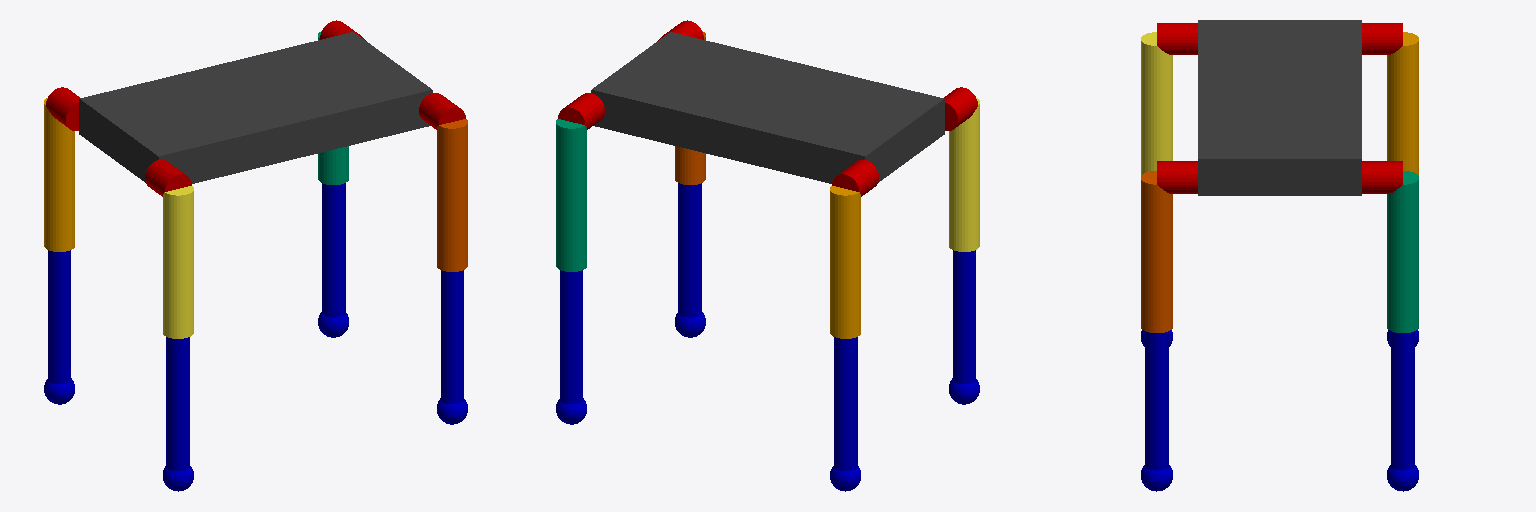
The robot description file, URDF, robot "quadruped":
<?xml version="1.0"?>
<robot name="quadruped">
  <link name="base_link">
    <visual><geometry><box size="0.4 0.2 0.05"/></geometry><material name="gray"><color rgba="0.3 0.3 0.3 1"/></material></visual>
    <collision><geometry><box size="0.4 0.2 0.05"/></geometry></collision>
    <inertial><mass value="2.0"/><inertia ixx="0.01" ixy="0" ixz="0" iyy="0.01" iyz="0" izz="0.01"/></inertial>
  </link>

  <link name="FL_coxa">
    <visual><geometry><cylinder length="0.05" radius="0.02"/></geometry><origin rpy="1.5708 0 0" xyz="0 0.025 0"/><material name="red"><color rgba="0.8 0 0 1"/></material></visual>
    <collision><geometry><cylinder length="0.05" radius="0.02"/></geometry><origin rpy="1.5708 0 0" xyz="0 0.025 0"/></collision>
    <inertial><mass value="0.2"/><inertia ixx="0.0001" ixy="0" ixz="0" iyy="0.0001" iyz="0" izz="0.0001"/></inertial>
  </link>
  <link name="FL_femur">
    <visual><geometry><cylinder length="0.2" radius="0.02"/></geometry><origin rpy="0 0 0" xyz="0 0 -0.1"/></visual>
    <collision><geometry><cylinder length="0.2" radius="0.02"/></geometry><origin rpy="0 0 0" xyz="0 0 -0.1"/></collision>
    <inertial><mass value="0.2"/><inertia ixx="0.0001" ixy="0" ixz="0" iyy="0.0001" iyz="0" izz="0.0001"/></inertial>
  </link>
  <link name="FL_tibia">
    <visual><geometry><sphere radius="0.02"/></geometry><origin rpy="0 0 0" xyz="0 0 -0.2"/><material name="blue"><color rgba="0 0 0.8 1"/></material></visual>
    <visual><geometry><cylinder length="0.2" radius="0.015"/></geometry><origin rpy="0 0 0" xyz="0 0 -0.1"/><material name="blue"><color rgba="0 0 0.8 1"/></material></visual>
    <collision><geometry><sphere radius="0.02"/></geometry><origin rpy="0 0 0" xyz="0 0 -0.2"/></collision>
    <collision><geometry><cylinder length="0.2" radius="0.015"/></geometry><origin rpy="0 0 0" xyz="0 0 -0.1"/></collision>
    <inertial><mass value="0.2"/><inertia ixx="0.0001" ixy="0" ixz="0" iyy="0.0001" iyz="0" izz="0.0001"/></inertial>
  </link>
  <joint name="FL_shoulder_roll" type="revolute"><parent link="base_link"/><child link="FL_coxa"/><origin xyz="0.2 0.1 0" rpy="0 0 0"/><axis xyz="1 0 0"/><limit effort="30" velocity="10" lower="-1.5" upper="1.5"/></joint>
  <joint name="FL_shoulder_pitch" type="revolute"><parent link="FL_coxa"/><child link="FL_femur"/><origin xyz="0 0.05 0" rpy="0 0 0"/><axis xyz="0 1 0"/><limit effort="30" velocity="10" lower="-1.5" upper="1.5"/></joint>
  <joint name="FL_knee_pitch" type="revolute"><parent link="FL_femur"/><child link="FL_tibia"/><origin xyz="0 0 -0.2" rpy="0 0 0"/><axis xyz="0 1 0"/><limit effort="30" velocity="10" lower="-3.0" upper="3.0"/></joint>

  <link name="FR_coxa">
    <visual><geometry><cylinder length="0.05" radius="0.02"/></geometry><origin rpy="1.5708 0 0" xyz="0 -0.025 0"/><material name="red"><color rgba="0.8 0 0 1"/></material></visual>
    <collision><geometry><cylinder length="0.05" radius="0.02"/></geometry><origin rpy="1.5708 0 0" xyz="0 -0.025 0"/></collision>
    <inertial><mass value="0.2"/><inertia ixx="0.0001" ixy="0" ixz="0" iyy="0.0001" iyz="0" izz="0.0001"/></inertial>
  </link>
  <link name="FR_femur">
    <visual><geometry><cylinder length="0.2" radius="0.02"/></geometry><origin rpy="0 0 0" xyz="0 0 -0.1"/></visual>
    <collision><geometry><cylinder length="0.2" radius="0.02"/></geometry><origin rpy="0 0 0" xyz="0 0 -0.1"/></collision>
    <inertial><mass value="0.2"/><inertia ixx="0.0001" ixy="0" ixz="0" iyy="0.0001" iyz="0" izz="0.0001"/></inertial>
  </link>
  <link name="FR_tibia">
    <visual><geometry><sphere radius="0.02"/></geometry><origin rpy="0 0 0" xyz="0 0 -0.2"/><material name="blue"><color rgba="0 0 0.8 1"/></material></visual>
    <visual><geometry><cylinder length="0.2" radius="0.015"/></geometry><origin rpy="0 0 0" xyz="0 0 -0.1"/><material name="blue"><color rgba="0 0 0.8 1"/></material></visual>
    <collision><geometry><sphere radius="0.02"/></geometry><origin rpy="0 0 0" xyz="0 0 -0.2"/></collision>
    <collision><geometry><cylinder length="0.2" radius="0.015"/></geometry><origin rpy="0 0 0" xyz="0 0 -0.1"/></collision>
    <inertial><mass value="0.2"/><inertia ixx="0.0001" ixy="0" ixz="0" iyy="0.0001" iyz="0" izz="0.0001"/></inertial>
  </link>
  <joint name="FR_shoulder_roll" type="revolute"><parent link="base_link"/><child link="FR_coxa"/><origin xyz="0.2 -0.1 0" rpy="0 0 0"/><axis xyz="1 0 0"/><limit effort="30" velocity="10" lower="-1.5" upper="1.5"/></joint>
  <joint name="FR_shoulder_pitch" type="revolute"><parent link="FR_coxa"/><child link="FR_femur"/><origin xyz="0 -0.05 0" rpy="0 0 0"/><axis xyz="0 1 0"/><limit effort="30" velocity="10" lower="-1.5" upper="1.5"/></joint>
  <joint name="FR_knee_pitch" type="revolute"><parent link="FR_femur"/><child link="FR_tibia"/><origin xyz="0 0 -0.2" rpy="0 0 0"/><axis xyz="0 1 0"/><limit effort="30" velocity="10" lower="-3.0" upper="3.0"/></joint>

  <link name="BL_coxa">
    <visual><geometry><cylinder length="0.05" radius="0.02"/></geometry><origin rpy="1.5708 0 0" xyz="0 0.025 0"/><material name="red"><color rgba="0.8 0 0 1"/></material></visual>
    <collision><geometry><cylinder length="0.05" radius="0.02"/></geometry><origin rpy="1.5708 0 0" xyz="0 0.025 0"/></collision>
    <inertial><mass value="0.2"/><inertia ixx="0.0001" ixy="0" ixz="0" iyy="0.0001" iyz="0" izz="0.0001"/></inertial>
  </link>
  <link name="BL_femur">
    <visual><geometry><cylinder length="0.2" radius="0.02"/></geometry><origin rpy="0 0 0" xyz="0 0 -0.1"/></visual>
    <collision><geometry><cylinder length="0.2" radius="0.02"/></geometry><origin rpy="0 0 0" xyz="0 0 -0.1"/></collision>
    <inertial><mass value="0.2"/><inertia ixx="0.0001" ixy="0" ixz="0" iyy="0.0001" iyz="0" izz="0.0001"/></inertial>
  </link>
  <link name="BL_tibia">
    <visual><geometry><sphere radius="0.02"/></geometry><origin rpy="0 0 0" xyz="0 0 -0.2"/><material name="blue"><color rgba="0 0 0.8 1"/></material></visual>
    <visual><geometry><cylinder length="0.2" radius="0.015"/></geometry><origin rpy="0 0 0" xyz="0 0 -0.1"/><material name="blue"><color rgba="0 0 0.8 1"/></material></visual>
    <collision><geometry><sphere radius="0.02"/></geometry><origin rpy="0 0 0" xyz="0 0 -0.2"/></collision>
    <collision><geometry><cylinder length="0.2" radius="0.015"/></geometry><origin rpy="0 0 0" xyz="0 0 -0.1"/></collision>
    <inertial><mass value="0.2"/><inertia ixx="0.0001" ixy="0" ixz="0" iyy="0.0001" iyz="0" izz="0.0001"/></inertial>
  </link>
  <joint name="BL_shoulder_roll" type="revolute"><parent link="base_link"/><child link="BL_coxa"/><origin xyz="-0.2 0.1 0" rpy="0 0 0"/><axis xyz="1 0 0"/><limit effort="30" velocity="10" lower="-1.5" upper="1.5"/></joint>
  <joint name="BL_shoulder_pitch" type="revolute"><parent link="BL_coxa"/><child link="BL_femur"/><origin xyz="0 0.05 0" rpy="0 0 0"/><axis xyz="0 1 0"/><limit effort="30" velocity="10" lower="-1.5" upper="1.5"/></joint>
  <joint name="BL_knee_pitch" type="revolute"><parent link="BL_femur"/><child link="BL_tibia"/><origin xyz="0 0 -0.2" rpy="0 0 0"/><axis xyz="0 1 0"/><limit effort="30" velocity="10" lower="-3.0" upper="3.0"/></joint>

  <link name="BR_coxa">
    <visual><geometry><cylinder length="0.05" radius="0.02"/></geometry><origin rpy="1.5708 0 0" xyz="0 -0.025 0"/><material name="red"><color rgba="0.8 0 0 1"/></material></visual>
    <collision><geometry><cylinder length="0.05" radius="0.02"/></geometry><origin rpy="1.5708 0 0" xyz="0 -0.025 0"/></collision>
    <inertial><mass value="0.2"/><inertia ixx="0.0001" ixy="0" ixz="0" iyy="0.0001" iyz="0" izz="0.0001"/></inertial>
  </link>
  <link name="BR_femur">
    <visual><geometry><cylinder length="0.2" radius="0.02"/></geometry><origin rpy="0 0 0" xyz="0 0 -0.1"/></visual>
    <collision><geometry><cylinder length="0.2" radius="0.02"/></geometry><origin rpy="0 0 0" xyz="0 0 -0.1"/></collision>
    <inertial><mass value="0.2"/><inertia ixx="0.0001" ixy="0" ixz="0" iyy="0.0001" iyz="0" izz="0.0001"/></inertial>
  </link>
  <link name="BR_tibia">
    <visual><geometry><sphere radius="0.02"/></geometry><origin rpy="0 0 0" xyz="0 0 -0.2"/><material name="blue"><color rgba="0 0 0.8 1"/></material></visual>
    <visual><geometry><cylinder length="0.2" radius="0.015"/></geometry><origin rpy="0 0 0" xyz="0 0 -0.1"/><material name="blue"><color rgba="0 0 0.8 1"/></material></visual>
    <collision><geometry><sphere radius="0.02"/></geometry><origin rpy="0 0 0" xyz="0 0 -0.2"/></collision>
    <collision><geometry><cylinder length="0.2" radius="0.015"/></geometry><origin rpy="0 0 0" xyz="0 0 -0.1"/></collision>
    <inertial><mass value="0.2"/><inertia ixx="0.0001" ixy="0" ixz="0" iyy="0.0001" iyz="0" izz="0.0001"/></inertial>
  </link>
  <joint name="BR_shoulder_roll" type="revolute"><parent link="base_link"/><child link="BR_coxa"/><origin xyz="-0.2 -0.1 0" rpy="0 0 0"/><axis xyz="1 0 0"/><limit effort="30" velocity="10" lower="-1.5" upper="1.5"/></joint>
  <joint name="BR_shoulder_pitch" type="revolute"><parent link="BR_coxa"/><child link="BR_femur"/><origin xyz="0 -0.05 0" rpy="0 0 0"/><axis xyz="0 1 0"/><limit effort="30" velocity="10" lower="-1.5" upper="1.5"/></joint>
  <joint name="BR_knee_pitch" type="revolute"><parent link="BR_femur"/><child link="BR_tibia"/><origin xyz="0 0 -0.2" rpy="0 0 0"/><axis xyz="0 1 0"/><limit effort="30" velocity="10" lower="-3.0" upper="3.0"/></joint>
</robot>

--- Facts derived from the render (not from the file) ---
The picture shows the robot from 3 angles, left to right: view 1: azimuth 30°, elevation 25°; view 2: azimuth 150°, elevation 25°; view 3: azimuth 270°, elevation 25°; orthographic projection.
Model quadruped with 13 links and 12 joints (12 revolute), rooted at base_link, posed every joint at zero.
Links seen in each view (by area): view 1: base_link, BR_femur, FR_femur, BL_femur, FL_tibia, BR_tibia, FR_tibia, BL_tibia, FL_femur, FR_coxa, BR_coxa, BL_coxa; view 2: base_link, BL_femur, FL_femur, BR_femur, FR_tibia, BL_tibia, FL_tibia, BR_tibia, FR_femur, FL_coxa, BL_coxa, BR_coxa; view 3: base_link, FL_femur, FR_femur, BL_femur, BR_femur, FL_tibia, FR_tibia, FL_coxa, FR_coxa, BL_coxa, BR_coxa.
Link boxes in pixels (x1,y1,x2,y2): base_link: [79, 32, 432, 183]; BR_femur: [163, 186, 193, 338]; FR_femur: [437, 119, 467, 271]; BL_femur: [44, 98, 74, 251]; FL_tibia: [318, 183, 348, 337]; BR_tibia: [163, 337, 193, 491]; FR_tibia: [437, 270, 467, 424]; BL_tibia: [44, 250, 74, 404]; FL_femur: [318, 31, 348, 184]; FR_coxa: [419, 93, 465, 129]; BR_coxa: [145, 160, 191, 196]; BL_coxa: [46, 87, 79, 130]; base_link: [591, 32, 944, 183]; BL_femur: [830, 186, 860, 338]; FL_femur: [556, 119, 586, 271]; BR_femur: [949, 98, 979, 251]; FR_tibia: [675, 183, 705, 337]; BL_tibia: [830, 337, 860, 491]; FL_tibia: [556, 270, 586, 424]; BR_tibia: [949, 250, 979, 404]; FR_femur: [675, 31, 705, 184]; FL_coxa: [558, 93, 604, 129]; BL_coxa: [832, 160, 878, 196]; BR_coxa: [944, 87, 977, 130]; base_link: [1198, 20, 1361, 195]; FL_femur: [1387, 171, 1418, 332]; FR_femur: [1141, 171, 1172, 332]; BL_femur: [1387, 32, 1418, 174]; BR_femur: [1141, 32, 1172, 174]; FL_tibia: [1387, 331, 1418, 491]; FR_tibia: [1141, 331, 1172, 491]; FL_coxa: [1362, 161, 1402, 193]; FR_coxa: [1157, 161, 1197, 193]; BL_coxa: [1362, 23, 1402, 54]; BR_coxa: [1157, 23, 1197, 54].
Bounding box of the posed robot: 0.44 × 0.34 × 0.445 m (x, y, z).
Geometry: primitives only (box / cylinder / sphere), no mesh files.
